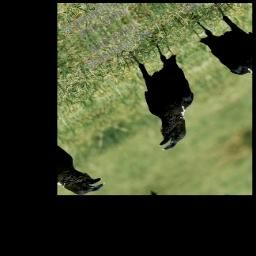Crow: (99, 30, 225, 157)
